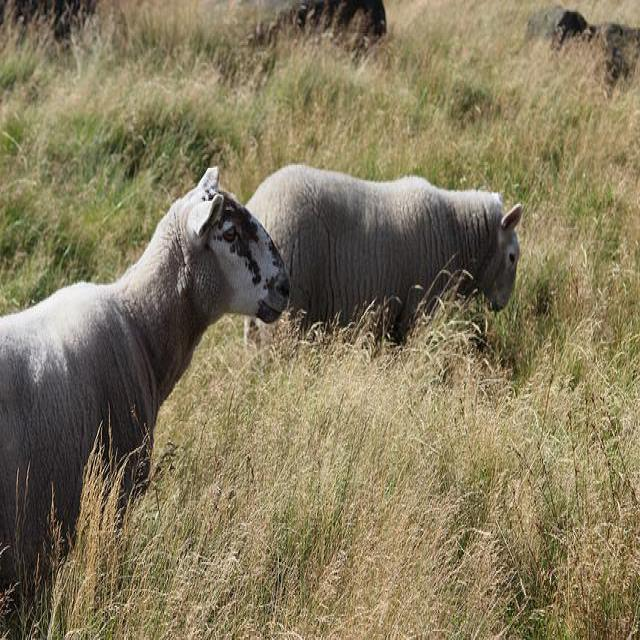Sheep: (1, 163, 288, 628), (252, 164, 528, 344)
